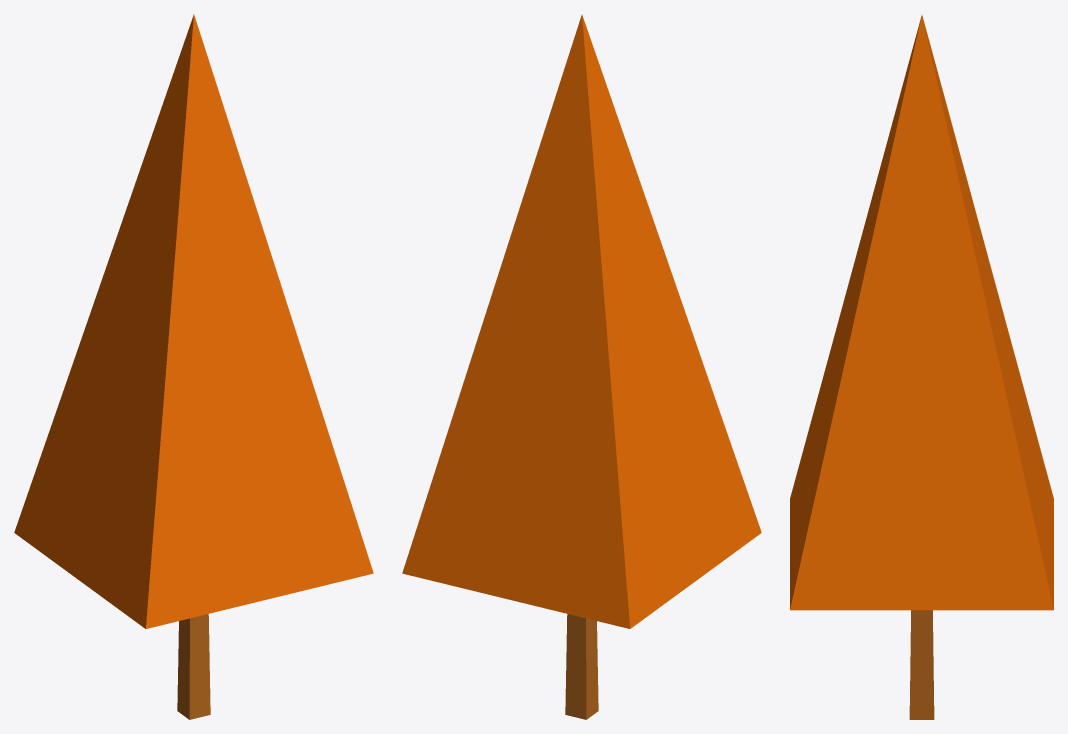
Rendered from Tree_33_Fall.fbx.
3 renders of one model, left to right at view 1: azimuth 30°, elevation 25°; view 2: azimuth 150°, elevation 25°; view 3: azimuth 270°, elevation 25°, orthographic.
Visible parts, largest first — view 1: Tree_33_Fall; view 2: Tree_33_Fall; view 3: Tree_33_Fall.
Boxes of the visible parts, x1=… form: Tree_33_Fall: x1=14, y1=14, x2=373, y2=719; Tree_33_Fall: x1=402, y1=14, x2=761, y2=719; Tree_33_Fall: x1=790, y1=15, x2=1053, y2=719.
Size of the model in its own units: 153 by 448 by 153.
